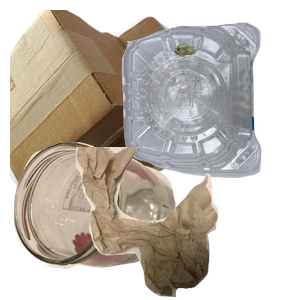cardboard: (10, 10, 206, 190)
glass: (11, 139, 179, 300)
plastic: (119, 20, 300, 190)
trash: (73, 147, 300, 300)
